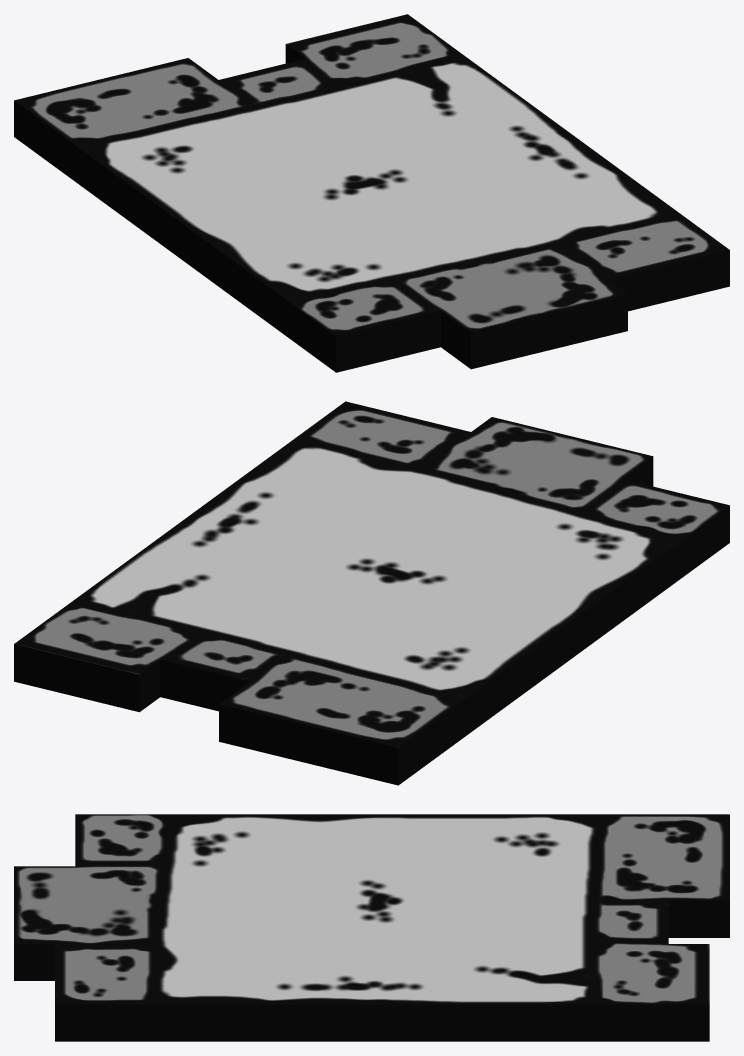
Rendered from tile_corridor.glb.
3 views of the same model, one above another, from view 1: azimuth 30°, elevation 25°; view 2: azimuth 150°, elevation 25°; view 3: azimuth 270°, elevation 25° (orthographic). The views are drawn at different scales.
Visible parts, largest first — view 1: Cube.003; view 2: Cube.003; view 3: Cube.003.
Part boxes in pixels (x1,y1,x2,y2): Cube.003: (14, 14, 729, 372); Cube.003: (14, 401, 729, 785); Cube.003: (14, 814, 729, 1041).
Bounding box in the file's own units: 2.2 × 0.2 × 3.5.
Materials: 1 (1 with a texture image).
